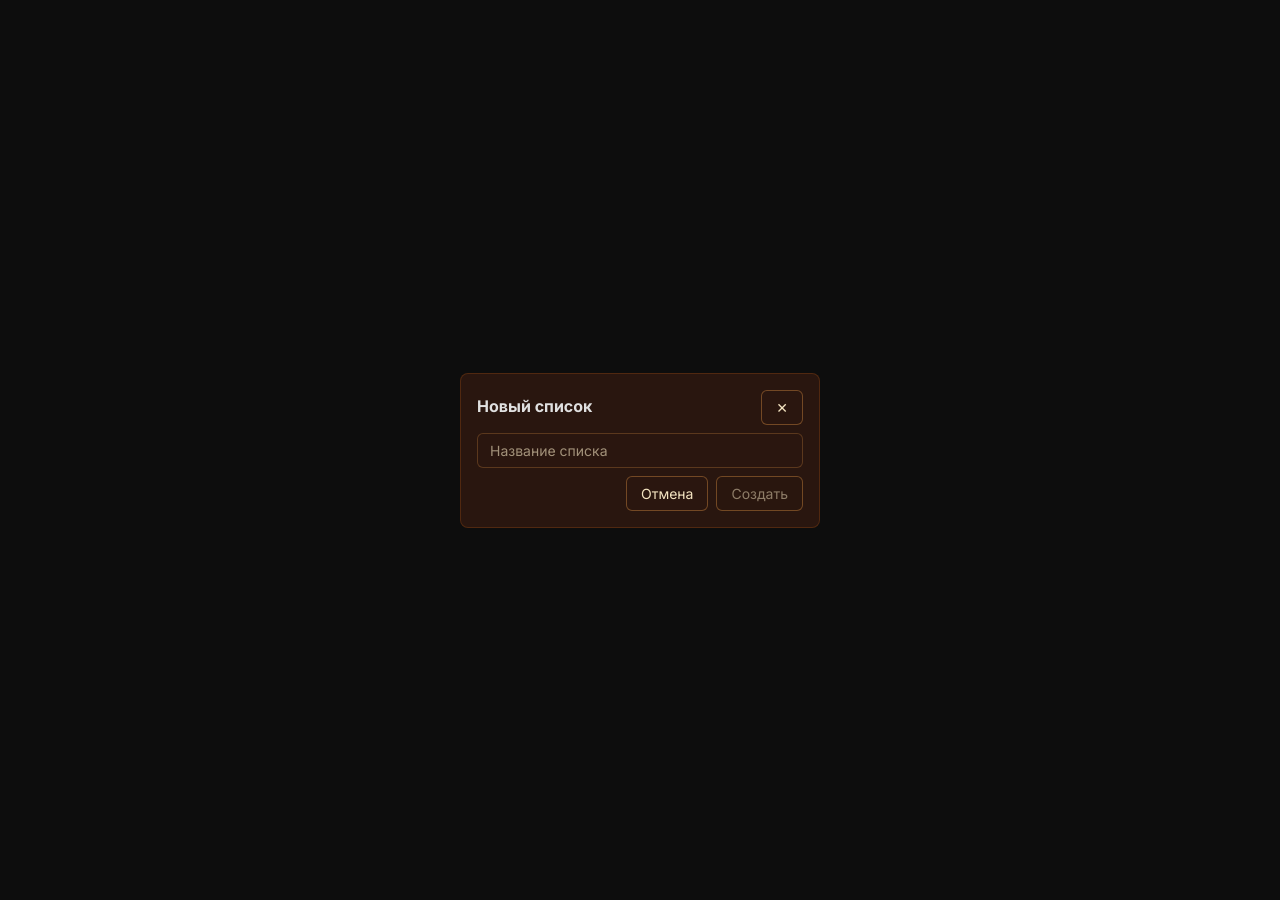
Scenario: CreateListModal › should show loading state while creating
Step 1. Type "My List" into the field with placeholder "Название списка" → (640,450), box [477,432,803,468]
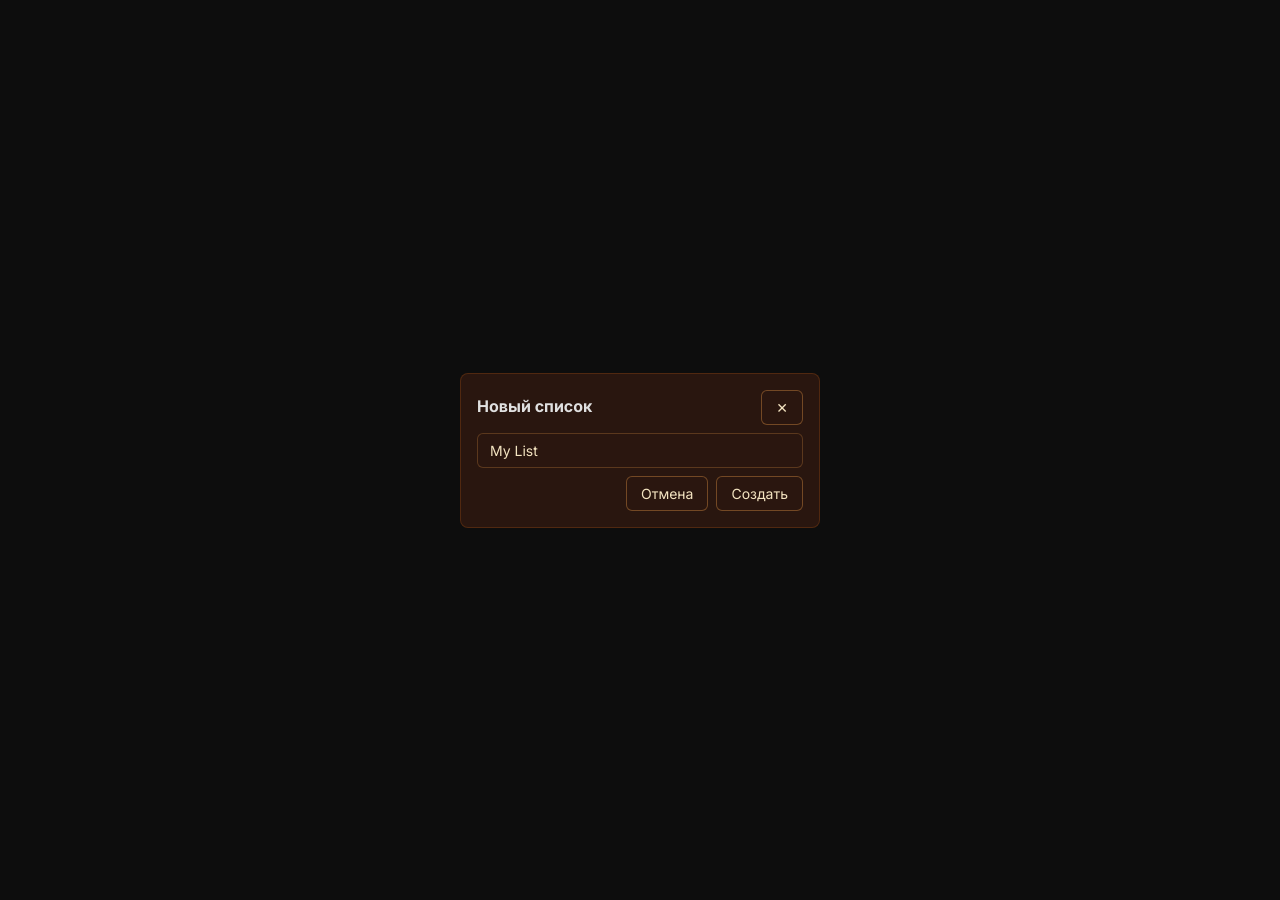
Step 2. Click the button "Создать" → (760,493), box [716,476,803,510]
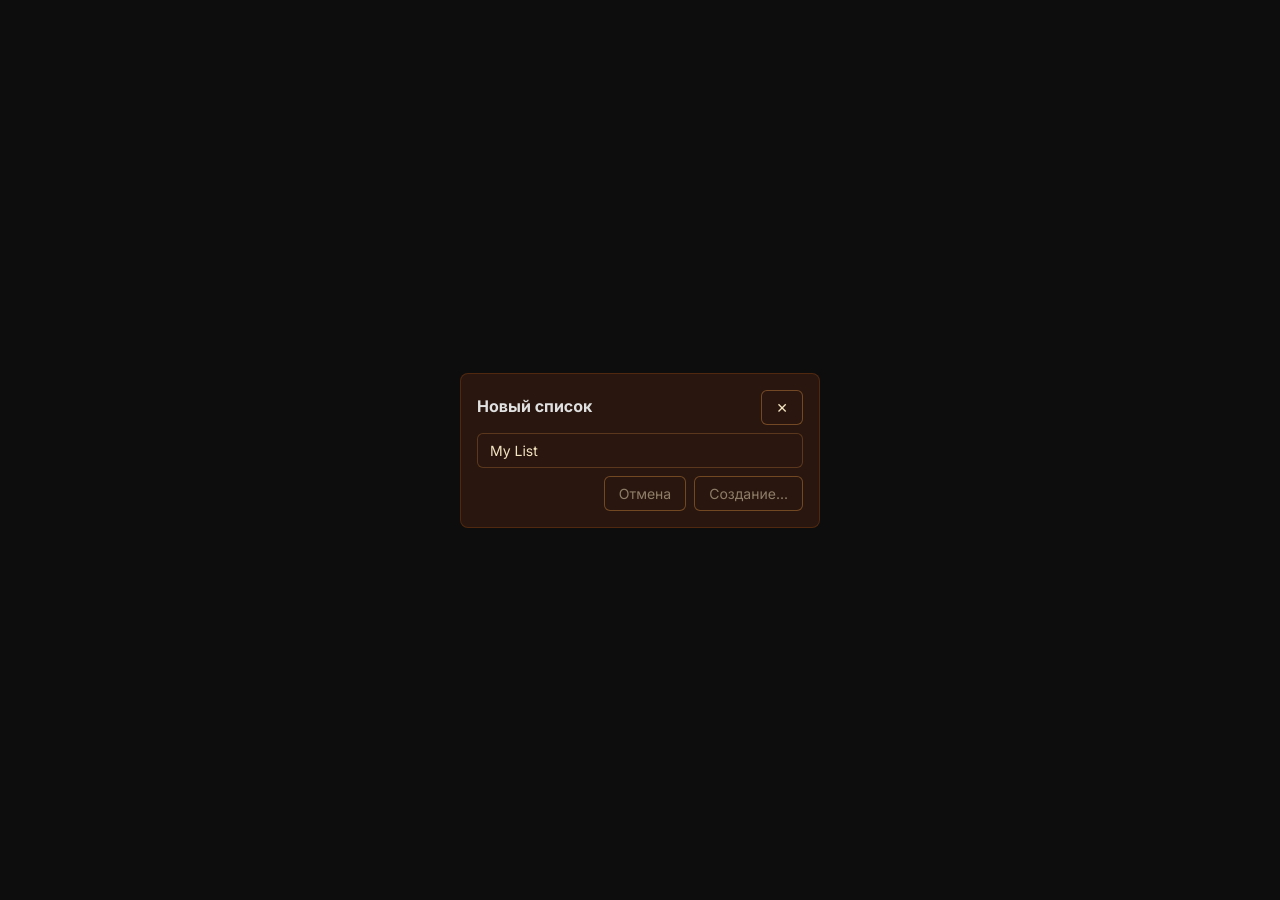
Expected: the button "Создание..." is disabled, [694,476,803,510]
